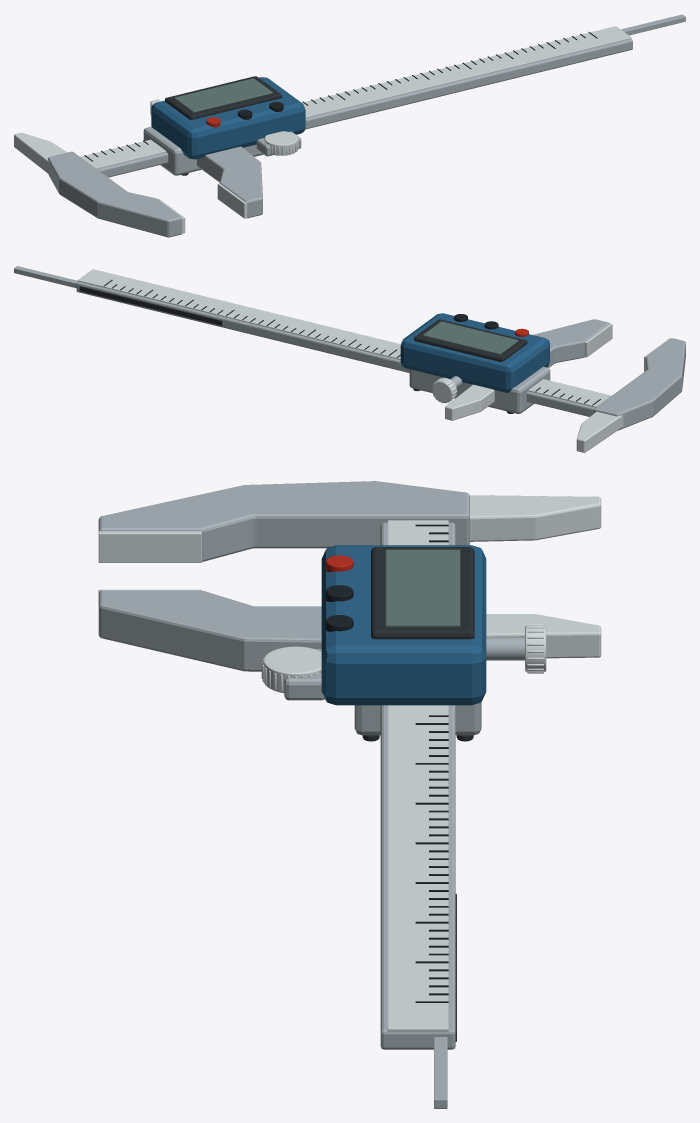
File: city-digital-slide-caliper.glb
The picture shows the model from 3 angles, top to bottom: view 1: azimuth 30°, elevation 25°; view 2: azimuth 150°, elevation 25°; view 3: azimuth 270°, elevation 25°; orthographic projection. The views are drawn at different scales.
Parts seen in each view (by area): view 1: Assembly | Brushed tool steel, Assembly | Machined bright edges, Assembly | Deep blue impact housing, Assembly | Blank inactive LCD, Assembly | Blackened hardware, Assembly | Unnumbered dark reference marks; view 2: Assembly | Brushed tool steel, Assembly | Machined bright edges, Assembly | Deep blue impact housing, Assembly | Blackened hardware, Assembly | Blank inactive LCD, Assembly | Unnumbered dark reference marks; view 3: Assembly | Brushed tool steel, Assembly | Machined bright edges, Assembly | Deep blue impact housing, Assembly | Blank inactive LCD, Assembly | Blackened hardware, Assembly | Unnumbered dark reference marks.
Boxes of the visible parts, x1,y1,x2,y2 form: Assembly | Brushed tool steel: (48,14,685,237); Assembly | Machined bright edges: (14,26,631,233); Assembly | Deep blue impact housing: (151,77,305,159); Assembly | Blank inactive LCD: (174,78,272,112); Assembly | Blackened hardware: (165,76,282,175); Assembly | Unnumbered dark reference marks: (84,32,597,161); Assembly | Brushed tool steel: (14,266,685,430); Assembly | Machined bright edges: (77,269,670,452); Assembly | Deep blue impact housing: (400,313,549,392); Assembly | Blackened hardware: (79,286,527,413); Assembly | Blank inactive LCD: (423,321,518,354); Assembly | Unnumbered dark reference marks: (104,280,600,405); Assembly | Brushed tool steel: (98,481,524,1108); Assembly | Machined bright edges: (98,495,601,1031); Assembly | Deep blue impact housing: (321,545,486,705); Assembly | Blank inactive LCD: (385,549,460,626); Assembly | Blackened hardware: (362,547,474,1041); Assembly | Unnumbered dark reference marks: (415,524,448,1002).
Size of the model in its own units: 0.3055 by 0.0258 by 0.107.
